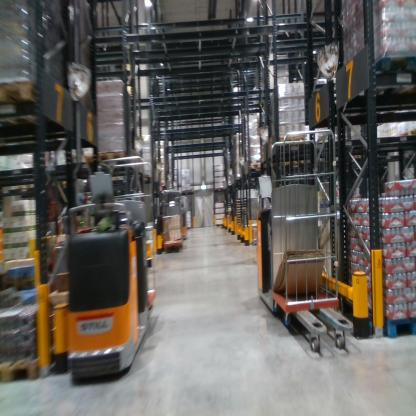pallet: (344, 53, 414, 122), (0, 337, 61, 389), (0, 73, 46, 141), (365, 301, 415, 347), (265, 128, 310, 148), (98, 150, 142, 170), (244, 156, 264, 176)
pallet_truck: (57, 173, 164, 382), (255, 160, 358, 360), (162, 182, 185, 250), (175, 194, 190, 240)
